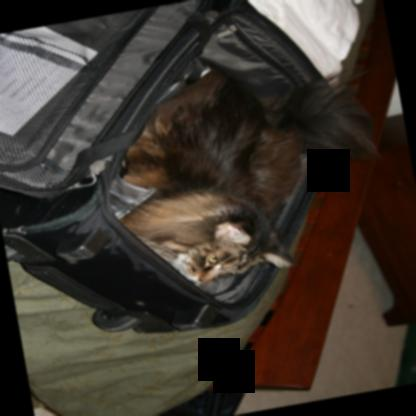suitcase: (0, 0, 334, 337)
